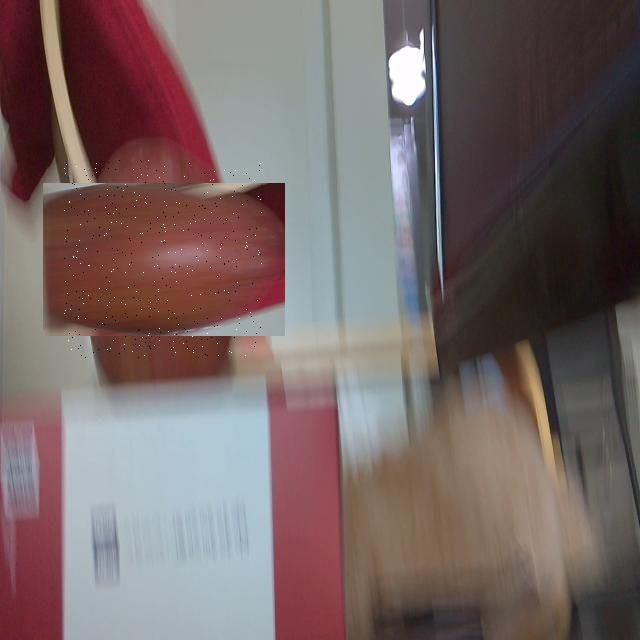apple: (65, 160, 262, 358)
